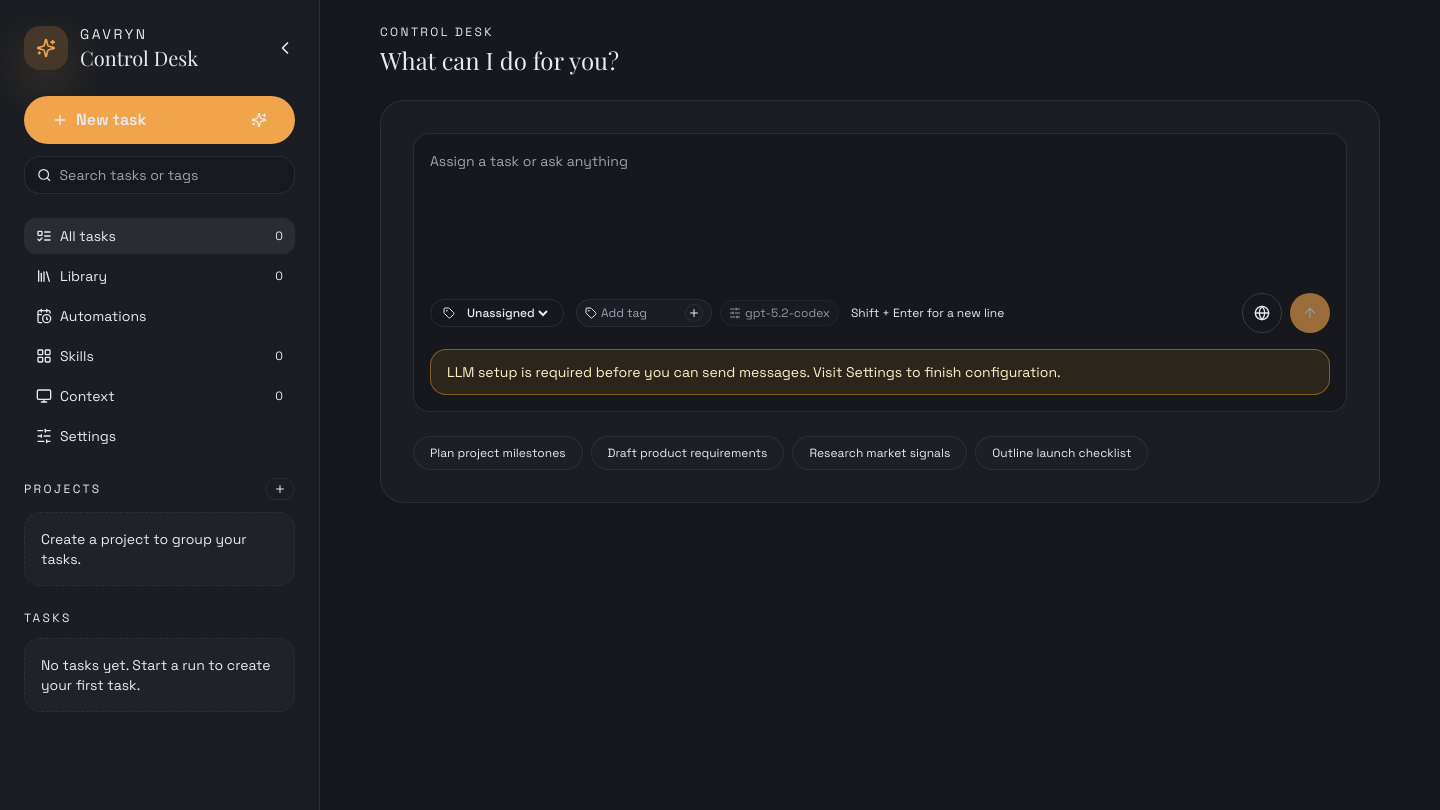
Test: App Component › Comprehensive Coverage Tests › handles search filtering
The image size is (1440, 810).
Check: the text "Control Desk" below "Gavryn" is shown, box [80,44,198,71]
// Create one task
Type "Task One" into the text box with placeholder "Assign a task or ask anything".
click(880, 210); type("Task One")  # box [430,150,1330,270]
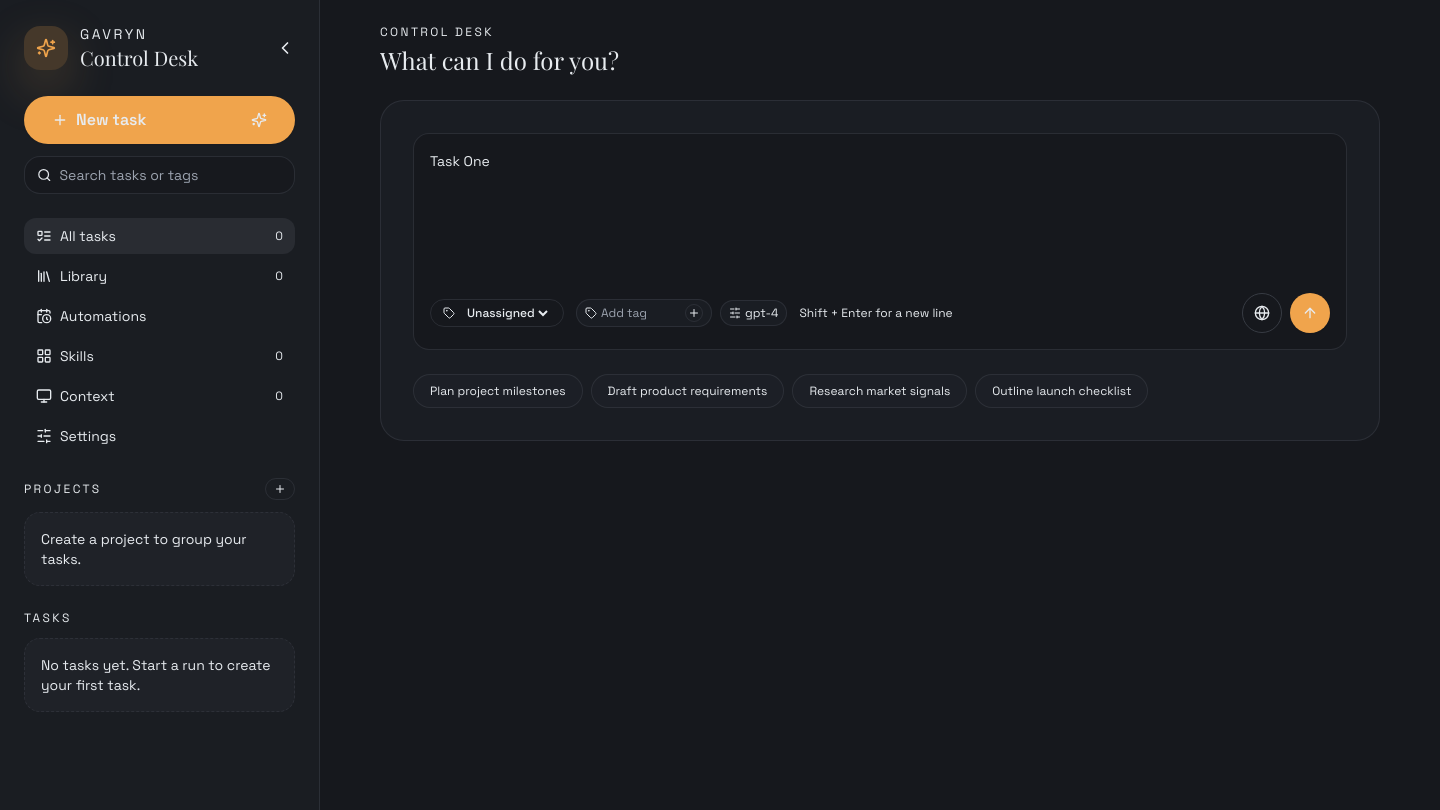
Press Enter in the text box with placeholder "Assign a task or ask anything", box [430,150,1330,270]
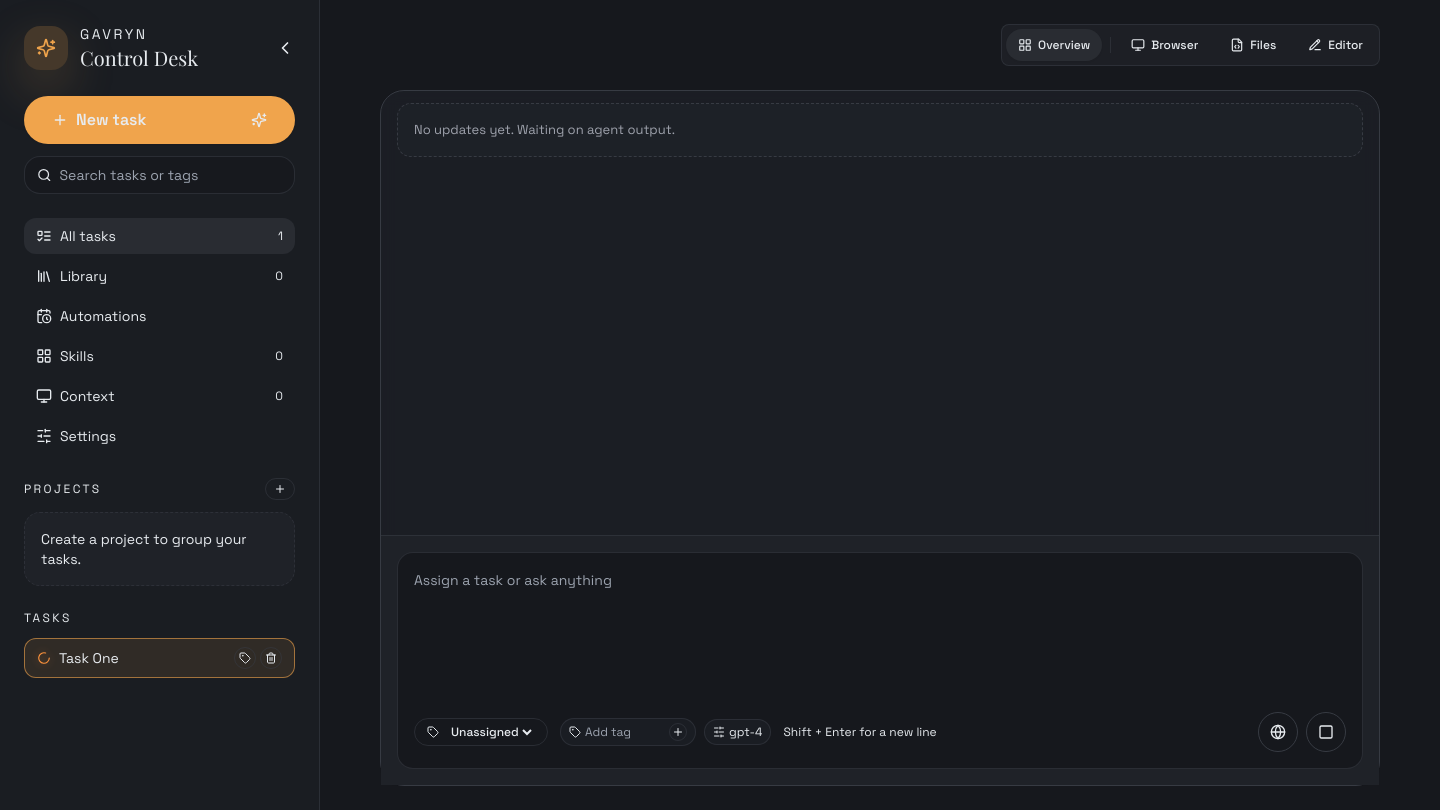
Check: the text "Task One" is shown, box [59,648,119,668]
// Search for "One"
Type "One" into the field with placeholder "Search tasks or tags".
click(171, 175); type("One")  # box [60,165,282,185]
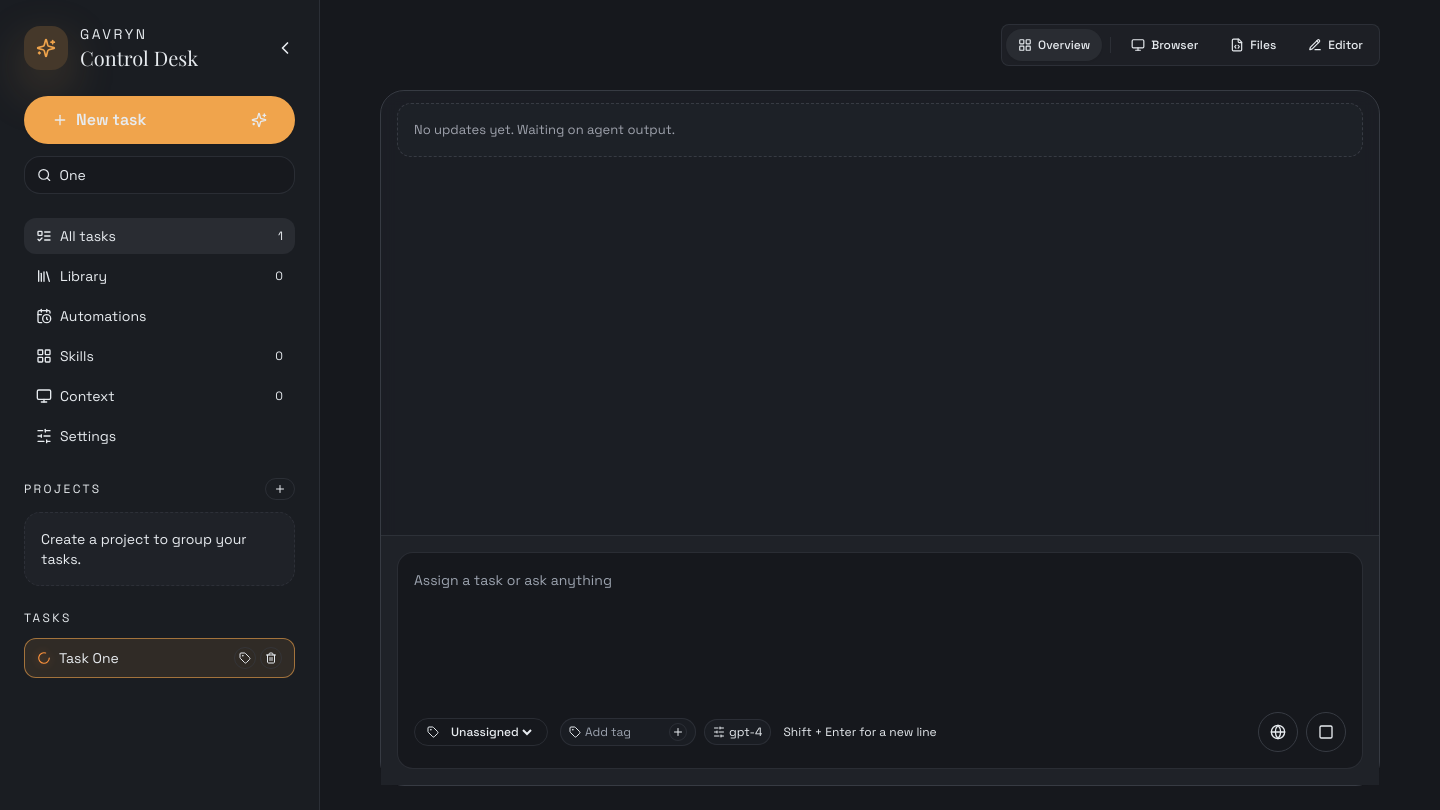
Check: the text "Task One" is shown, box [59,648,119,668]
// Search for "NonExistent"
Replace the text in the field with placeholder "Search tasks or tags" with "NonExistent" at (171,175), box [60,165,282,185]
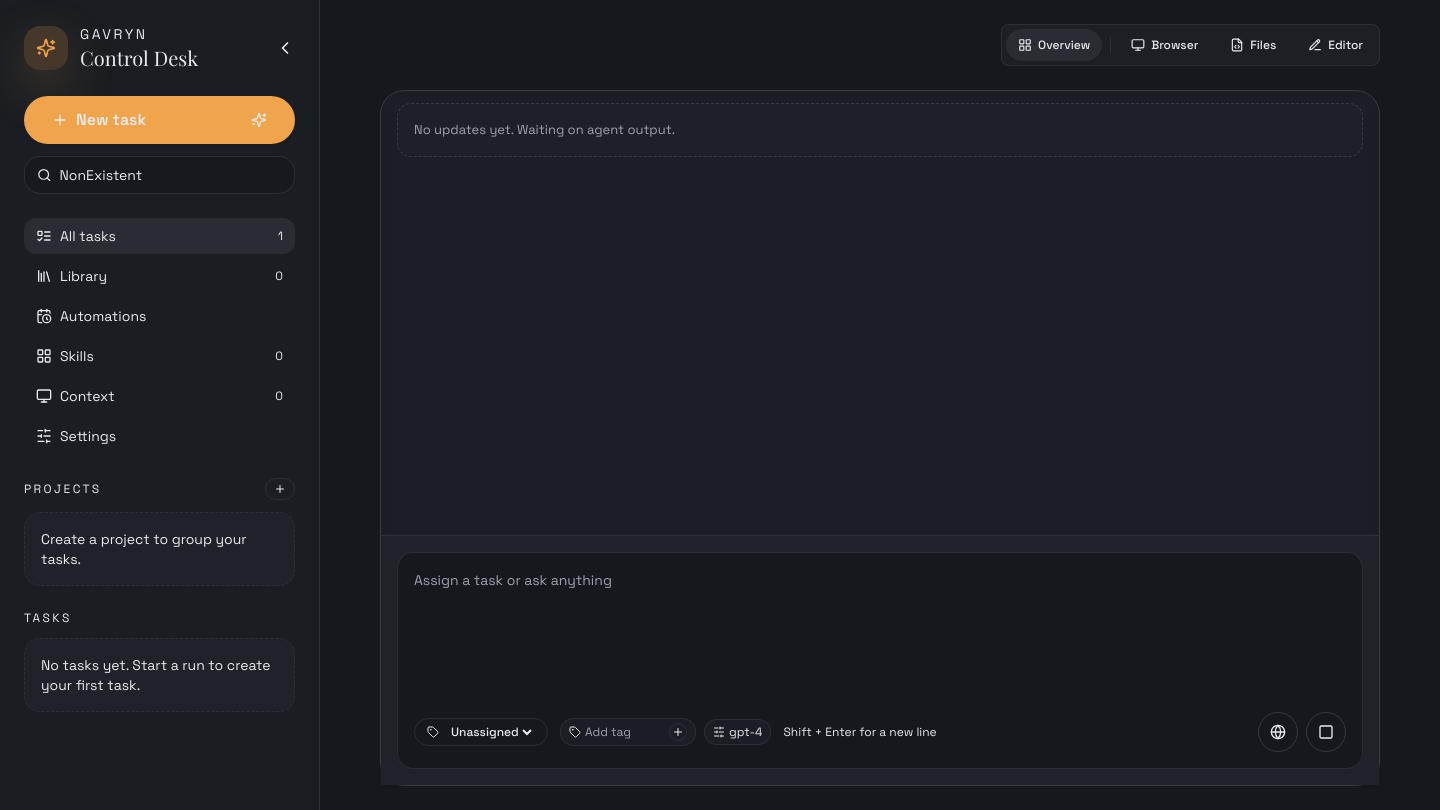
Check: the button "Task One" is gone
